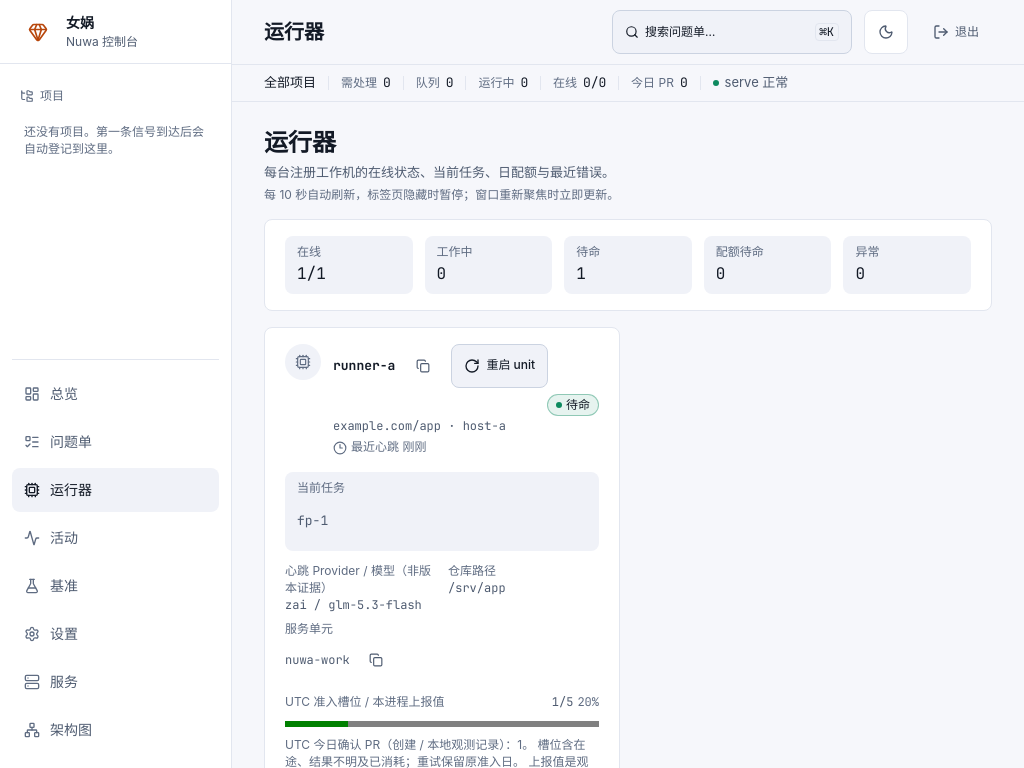
Test case: RestartRunnerButton › warns about the active issue and surfaces a 501 manual command
The image size is (1024, 768).
Click the button with aria-label "重启 unit：runner-a": x=500, y=366 [451,344,548,388]
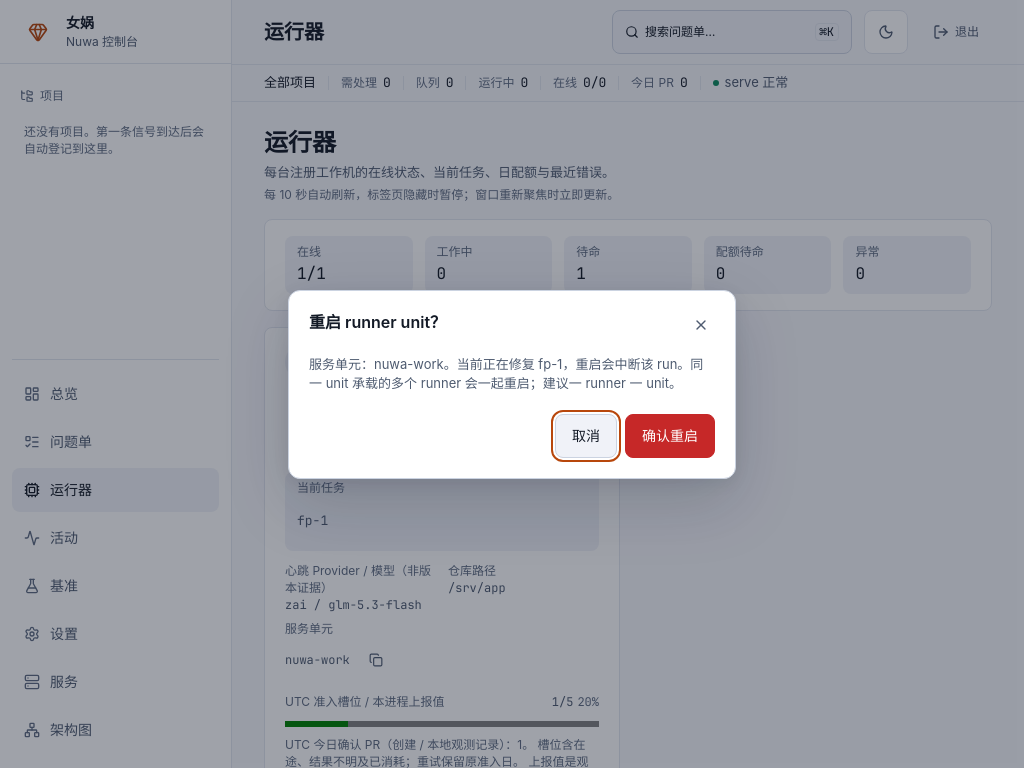
Expected: the text "同一 unit 承载的多个 runner 会一起重启" is shown, [309,356,703,391]
Click the button "确认重启": x=670, y=436 [625,414,715,458]
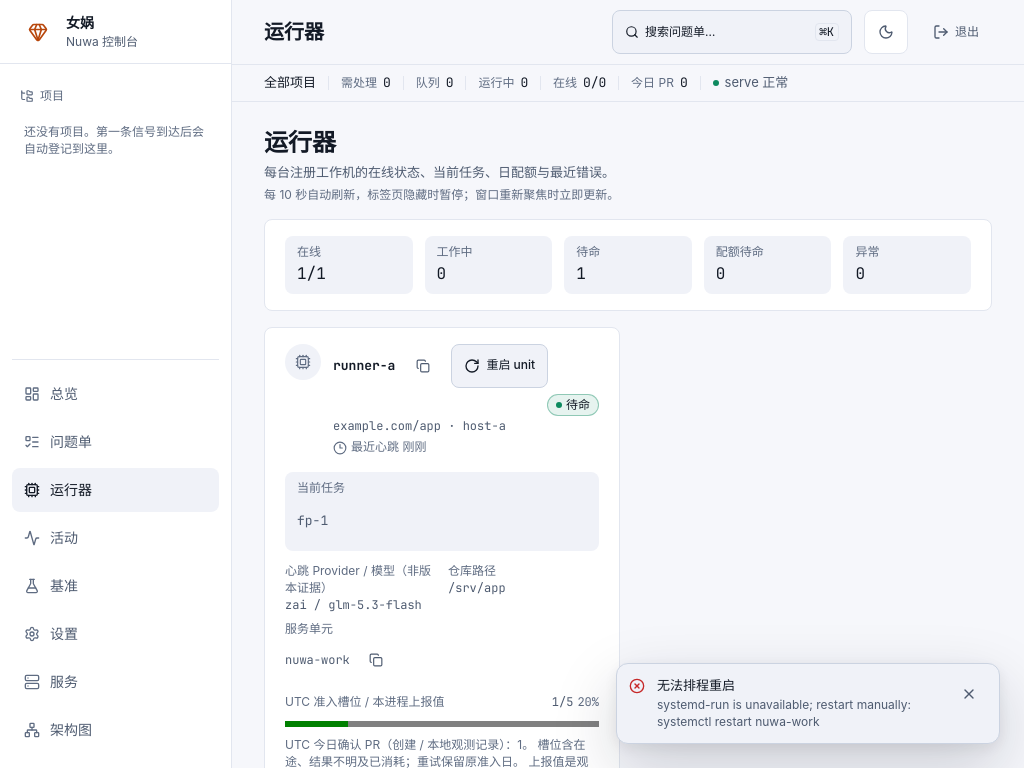
Expected: the text "systemctl restart nuwa-work" is shown, [657,697,911,729]
Expected: the dialog is gone
